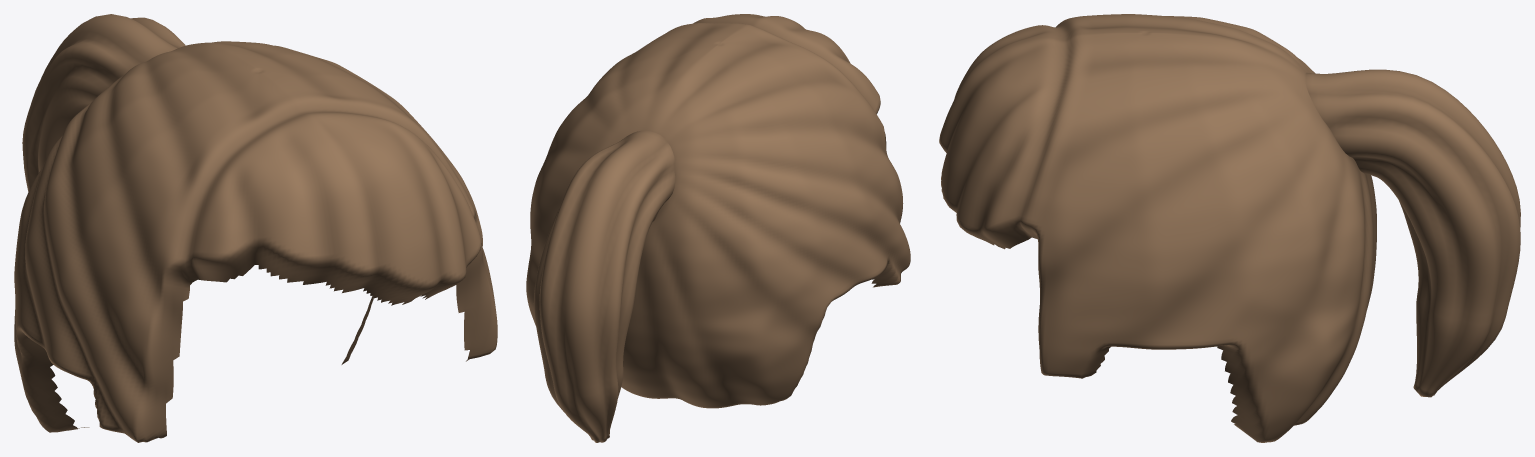
File: ponytail.gltf
3 renders of one model, left to right at view 1: azimuth 30°, elevation 25°; view 2: azimuth 150°, elevation 25°; view 3: azimuth 270°, elevation 25°, orthographic. The views are drawn at different scales.
Visible parts, largest first — view 1: Hair_ponytail; view 2: Hair_ponytail; view 3: Hair_ponytail.
Part boxes in pixels (x1,y1,x2,y2): Hair_ponytail: [14, 14, 497, 442]; Hair_ponytail: [526, 14, 910, 442]; Hair_ponytail: [939, 14, 1520, 442].
Size of the model in its own units: 0.4465 by 0.4179 by 0.6057.
